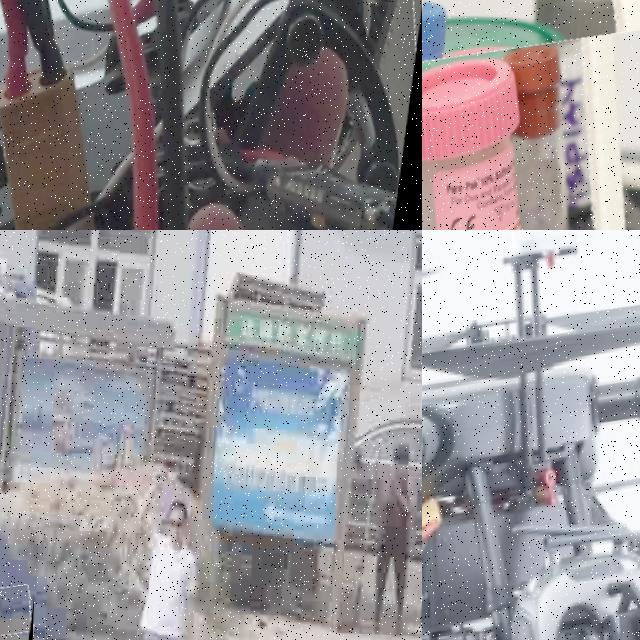drone: (0, 0, 422, 230), (422, 230, 640, 640), (422, 8, 640, 230)
